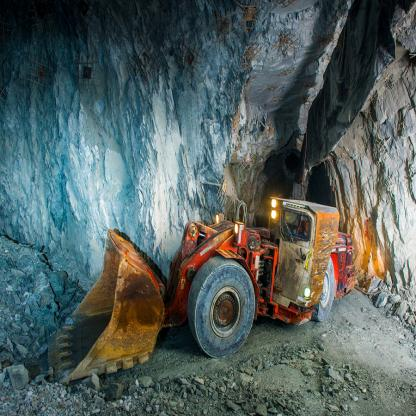bull_dozer/loader/grader: (43, 158, 372, 369)
